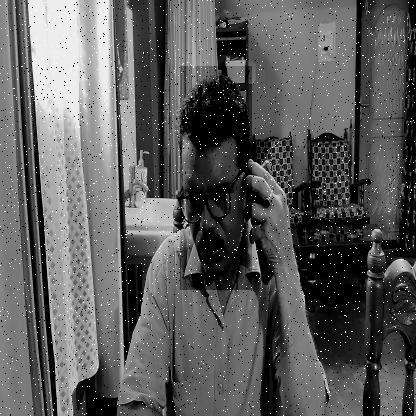Distracted: (180, 66, 252, 290)
